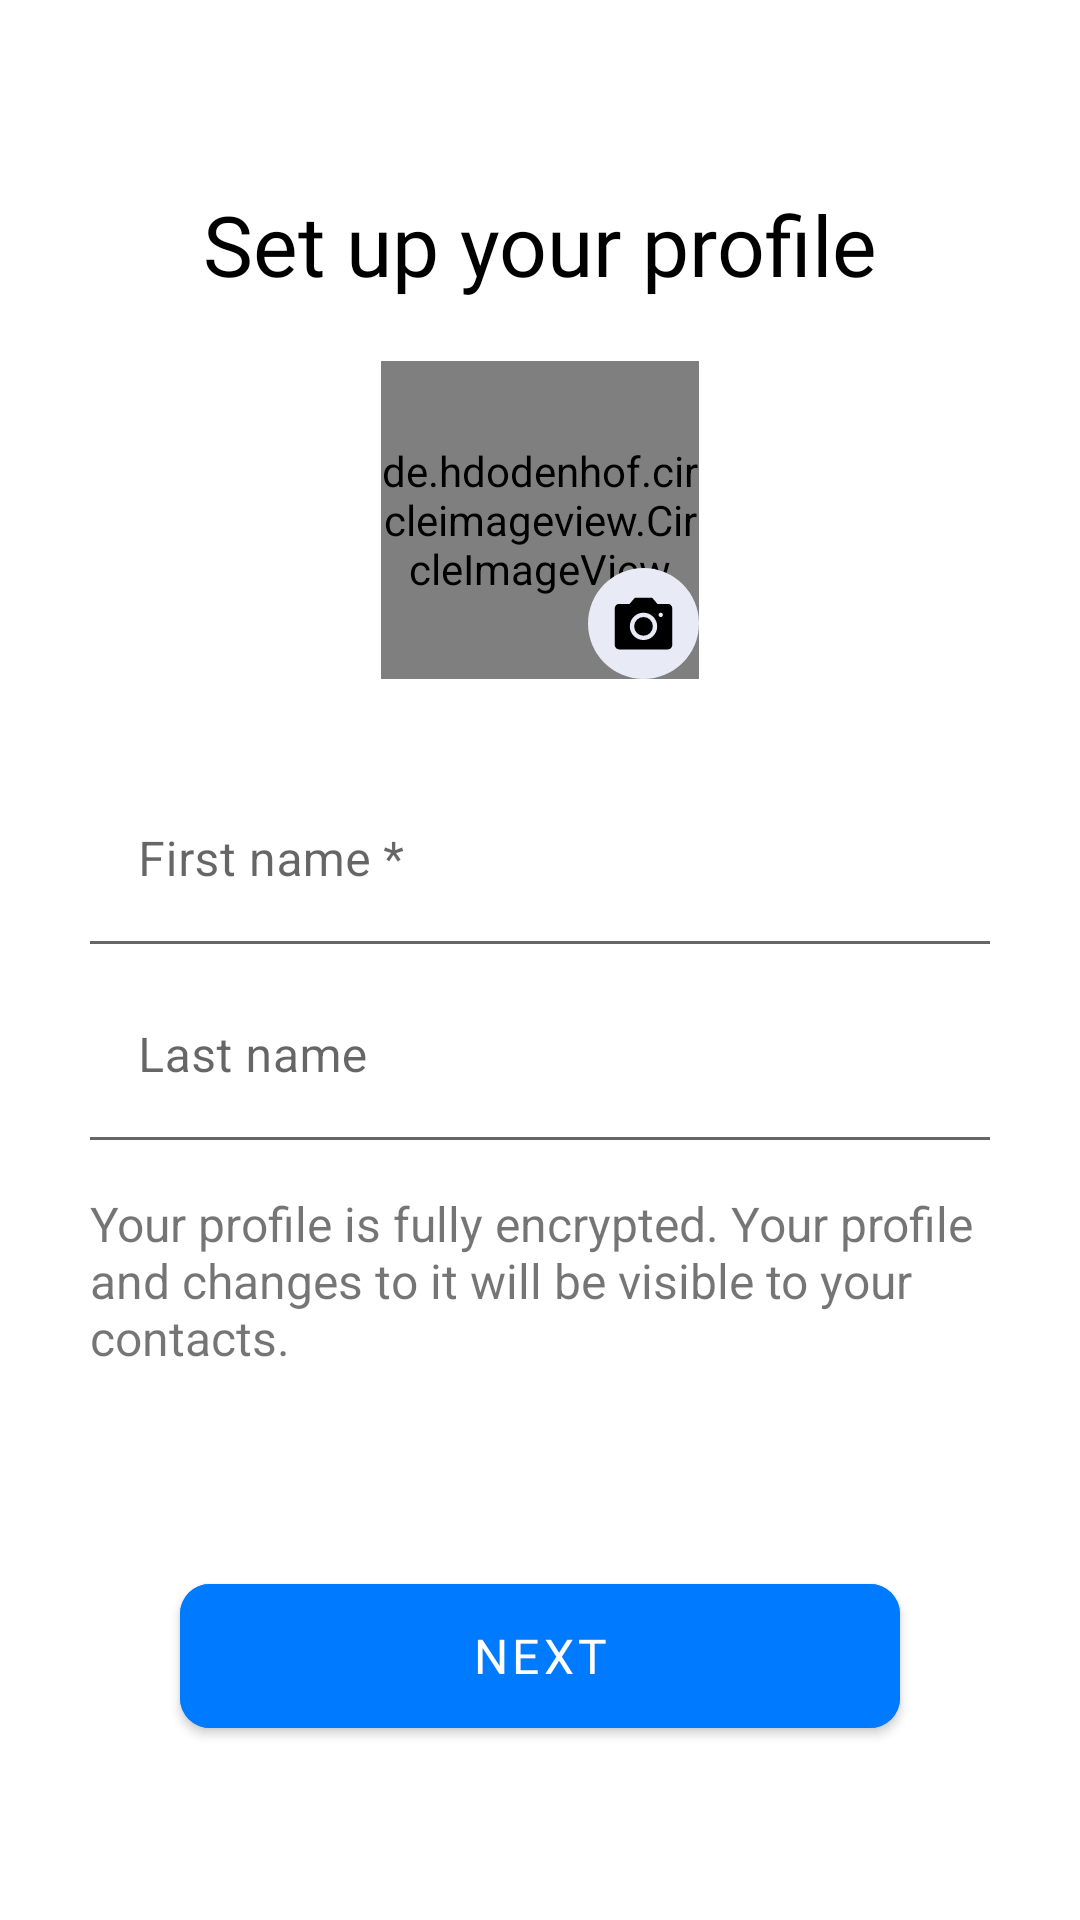

Screen size 1080px x 1920px. Icon name, then its center in pixels as (x=x, y=y):
android camera: (x=643, y=623)
